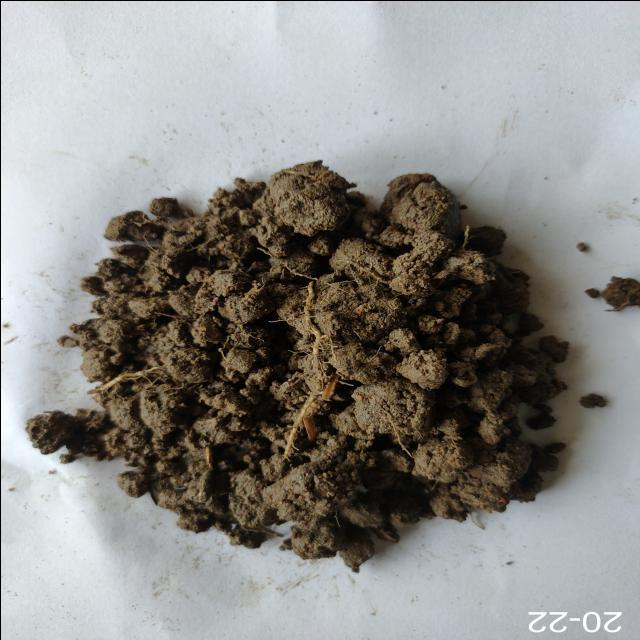soil: (120, 239, 492, 481)
